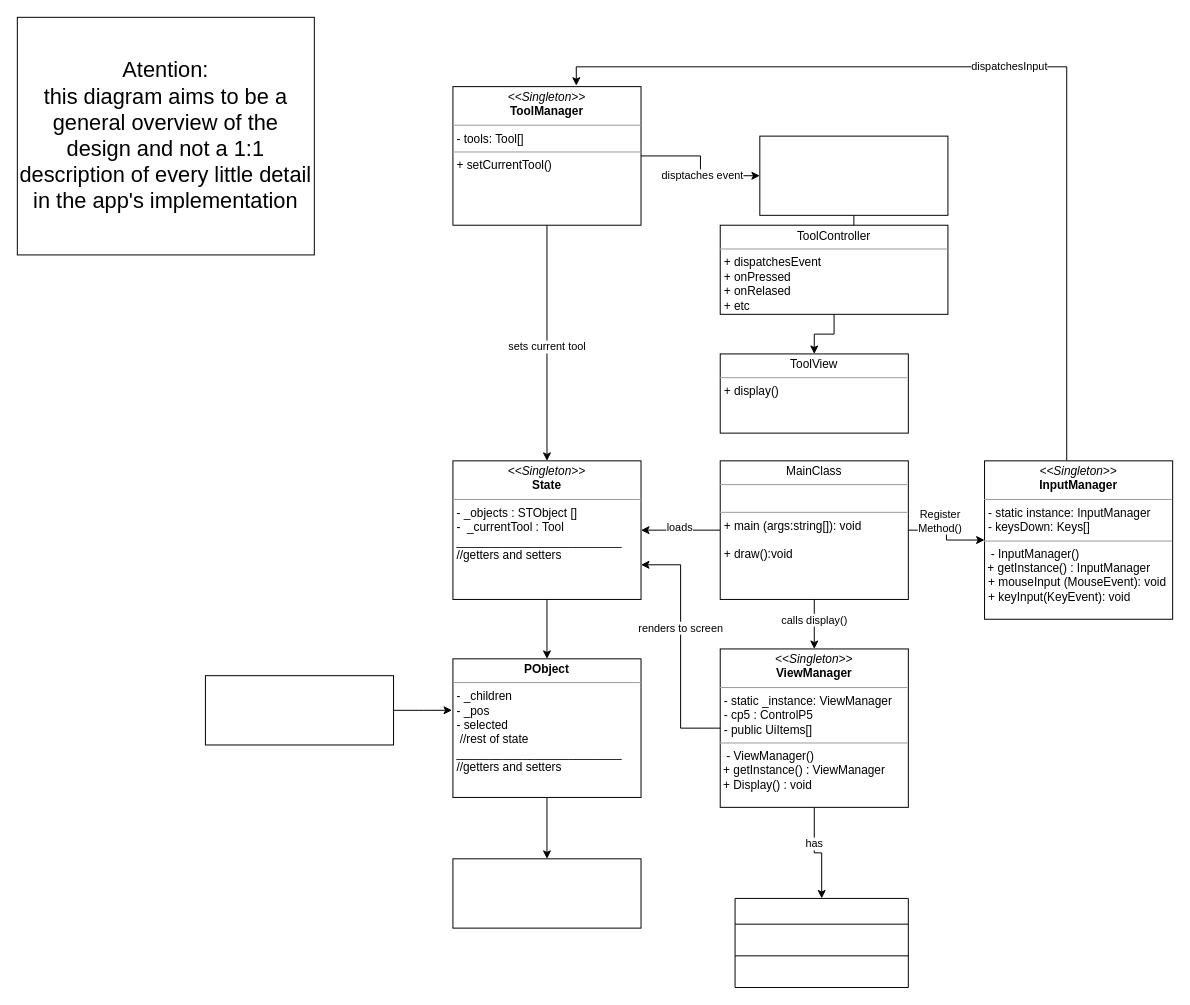
The diagram is 1190 pixels wide and 1005 high, and some of its shapes have lost their labels. Each missing label, with the centre of its shape:
"PObjectController move() etc" belongs at [546,893].
"PObjectView move() etc" belongs at [299,710].
"Tool - name : String // toolState" belongs at [853,175].
"UIItem" belongs at [821,942].
